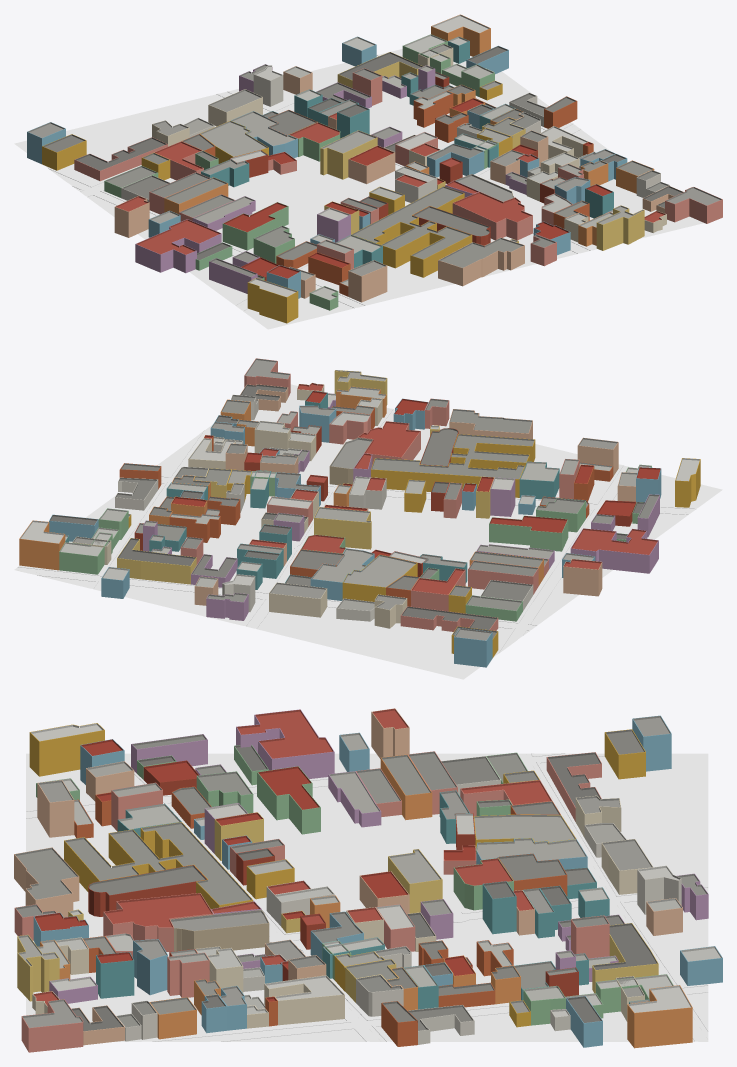
3 views of the same model, one above another, from view 1: azimuth 30°, elevation 25°; view 2: azimuth 150°, elevation 25°; view 3: azimuth 270°, elevation 25° (orthographic). The views are drawn at different scales.
Parts seen in each view (by area): view 1: walls, roofs, plaza, asphalt, sidewalk; view 2: walls, roofs, plaza, asphalt, sidewalk; view 3: walls, roofs, plaza, asphalt, sidewalk.
Part boxes in pixels (x1,y1,x2,y2): walls: (27, 26, 722, 323); roofs: (27, 14, 722, 300); plaza: (14, 49, 703, 329); asphalt: (49, 56, 579, 310); sidewalk: (44, 54, 597, 310); walls: (19, 361, 700, 667); roofs: (19, 358, 700, 640); plaza: (20, 384, 722, 679); asphalt: (14, 424, 695, 653); sidewalk: (18, 408, 696, 656); walls: (14, 712, 722, 1052); roofs: (14, 708, 722, 1031); plaza: (26, 753, 708, 1041); asphalt: (26, 753, 708, 1041); sidewalk: (26, 753, 708, 1041).
Size of what is drawn, in the model's own units: 276 by 14.15 by 260.
